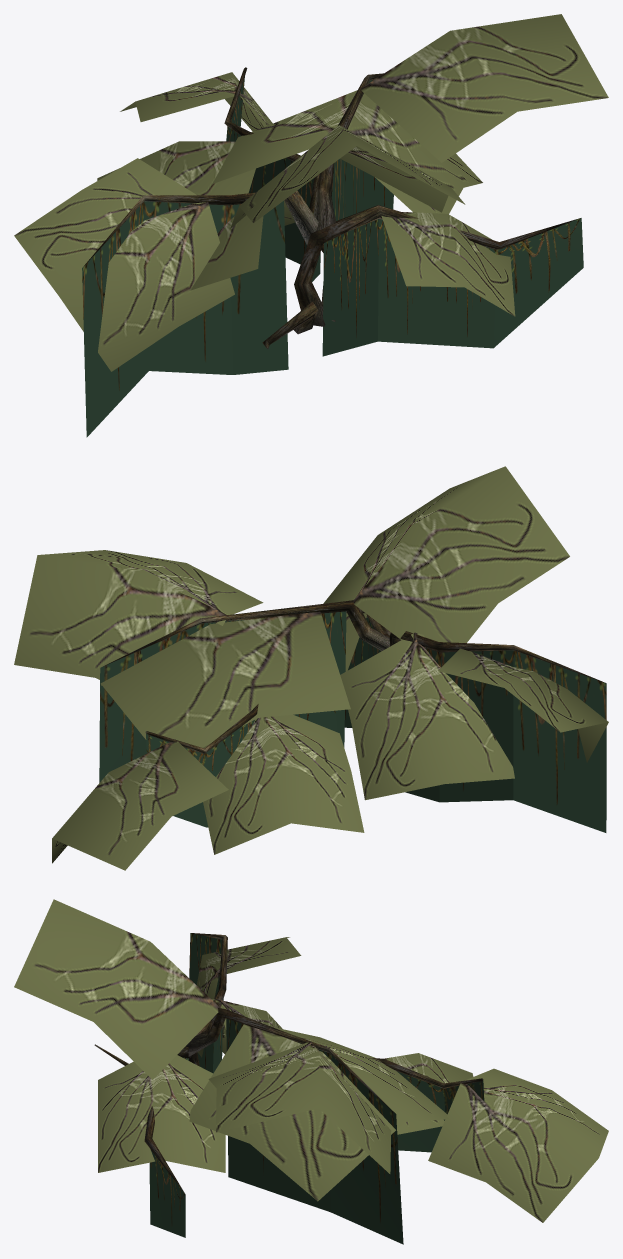
File: tree03.fbx
The picture shows the model from 3 angles, top to bottom: view 1: azimuth 30°, elevation 25°; view 2: azimuth 150°, elevation 25°; view 3: azimuth 270°, elevation 25°; orthographic projection. The views are drawn at different scales.
Parts seen in each view (by area): view 1: tree03; view 2: tree03; view 3: tree03.
Part boxes in pixels (<box>): tree03: <box>14,14,608,437</box>; tree03: <box>14,466,608,870</box>; tree03: <box>14,899,608,1244</box>.
Size of the model in its own units: 2177 by 1109 by 2344.
